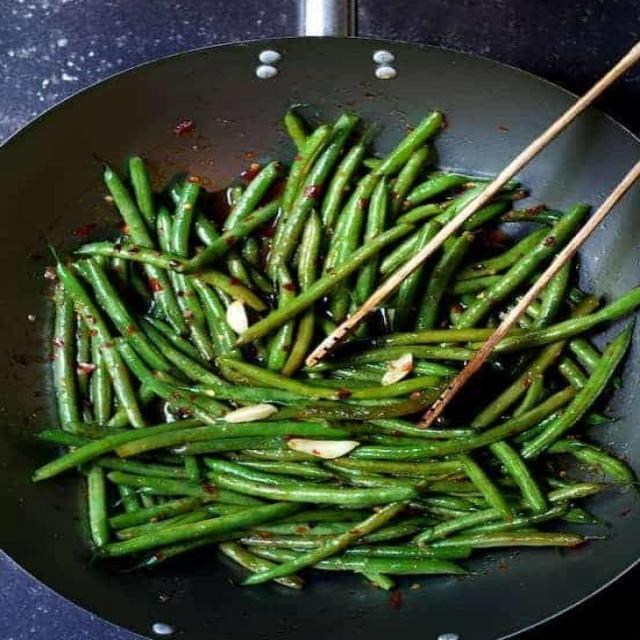Beans: (17, 103, 637, 591)
